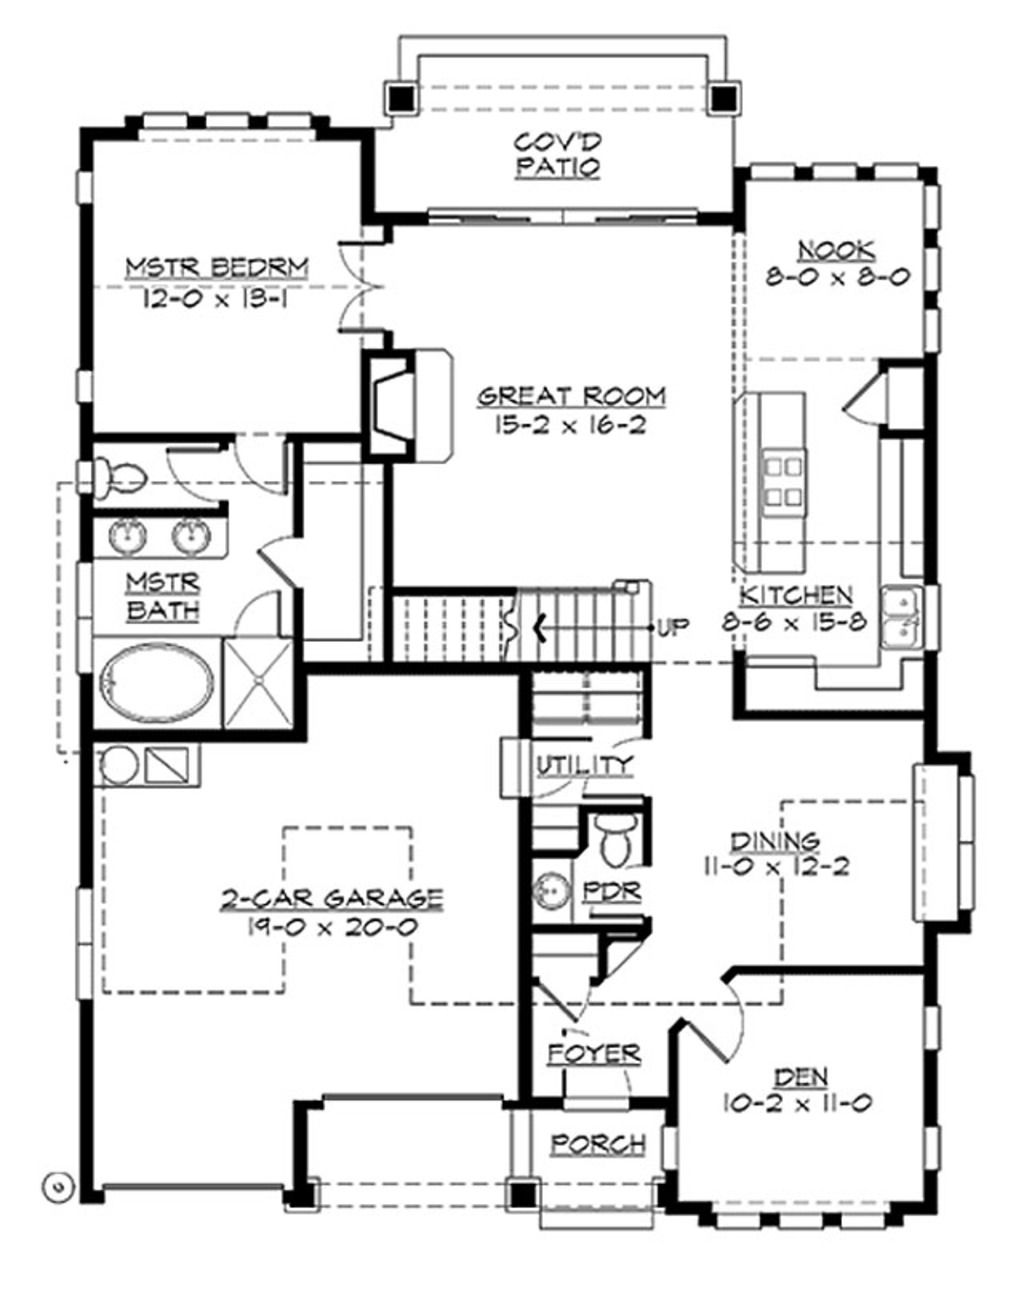door: (335, 230, 405, 352), (680, 978, 753, 1066), (165, 434, 239, 506), (257, 534, 315, 594), (227, 588, 295, 640), (235, 434, 291, 492), (543, 972, 593, 1018)
kitchen_bar: (739, 370, 819, 592)
large_sink: (75, 446, 155, 508), (591, 810, 635, 870)
small_sink: (97, 518, 227, 562), (529, 840, 581, 930)
stairs: (359, 584, 675, 674)
tub: (99, 628, 227, 734)
twin_sink: (873, 576, 943, 690)
window: (711, 1204, 885, 1234), (69, 886, 105, 1004), (63, 160, 105, 222)
